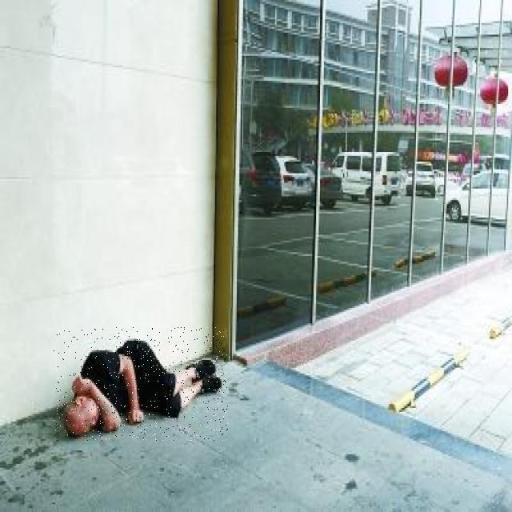Fall: (54, 327, 228, 441)
